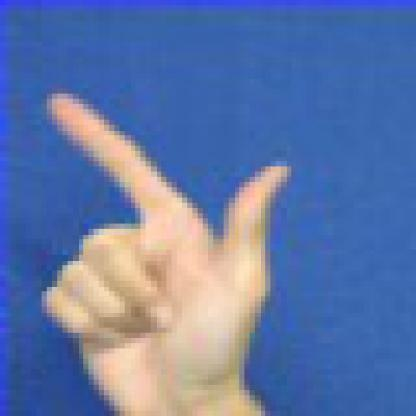seven: (26, 73, 312, 411)
